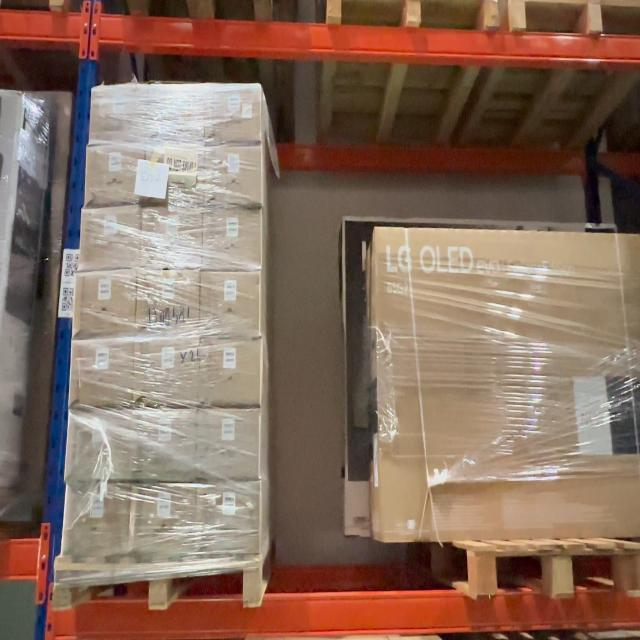box: (197, 482, 260, 557), (198, 408, 259, 482), (130, 486, 196, 554), (67, 482, 129, 552), (199, 338, 261, 406), (134, 339, 197, 405), (69, 410, 130, 478), (72, 337, 133, 404), (132, 411, 193, 478), (138, 270, 199, 336), (74, 272, 136, 334), (201, 270, 258, 336), (82, 204, 140, 266), (140, 207, 199, 267), (202, 207, 258, 268), (85, 144, 143, 202), (145, 143, 202, 202), (147, 86, 203, 144), (205, 83, 258, 143), (207, 146, 260, 205), (92, 88, 144, 142)
